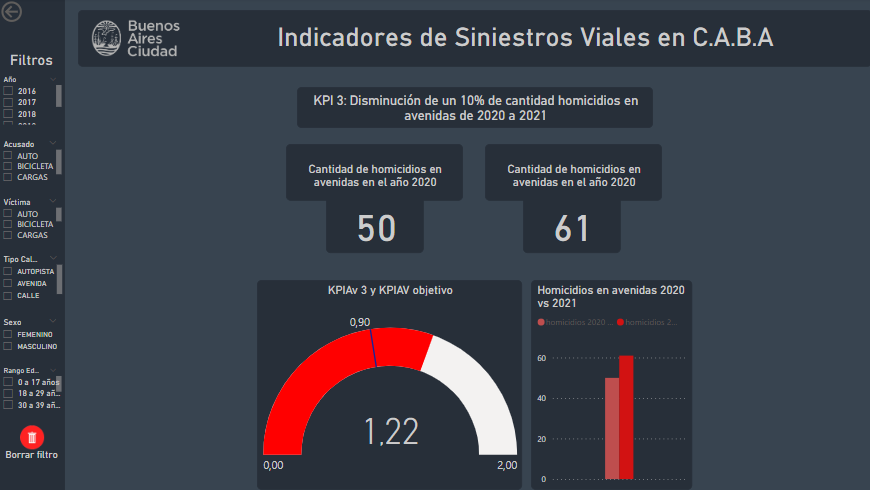

The page's visual inventory and layout, read from the dashboard file:
{"tool":"powerbi","page":{"name":"KPI 3","canvas":[1280,720],"ordinal":3},"visuals":[{"type":"shape","box":[0,0,98,720],"z":0},{"type":"textbox","box":[0,72.7,98,35.1],"z":1000},{"type":"actionButton","box":[0,0,100,40],"z":2000},{"type":"textbox","box":[437.6,130.2,521,60],"z":3000},{"type":"gauge","fields":{"Y":["homicidios.KPIAv 3"],"TargetValue":["homicidios.KPIAV objetivo"]},"box":[379,412.7,387.8,307.3],"z":4000},{"type":"clusteredColumnChart","title":"Homicidios en avenidas 2020 vs 2021","fields":{"Y":["homicidios.homicidios 2020 avenidas","homicidios.homicidios 2021 avenidas"]},"box":[780,412.7,235.6,307.3],"z":5000},{"type":"shape","box":[117,17.4,1162,83.4],"z":6000},{"type":"image","box":[117.5,17.4,169.8,83.4],"z":7000},{"type":"textbox","box":[335.5,29.1,873.7,60],"z":8000},{"type":"card","title":"Tasa de homicidios x 100.000 habs. Primer semestre 2021","fields":{"Values":["homicidios.homicidios 2020 avenidas"]},"box":[480,285.4,143.4,87.8],"z":9000},{"type":"textbox","box":[421.5,213.7,259,83.4],"z":10000},{"type":"textbox","box":[712.7,213.7,259,83.4],"z":11000},{"type":"card","title":"Tasa de homicidios x 100.000 habs. Primer semestre 2021","fields":{"Values":["homicidios.homicidios 2021 avenidas"]},"box":[768.3,285.4,143.4,87.8],"z":12000},{"type":"slicer","fields":{"Values":["victimas.FECHA.Variación.Jerarquía de fechas.Año"]},"box":[0,107.8,98,82],"z":13000},{"type":"slicer","fields":{"Values":["homicidios.TIPO_DE_CALLE"]},"box":[0,370.8,98.6,80.9],"z":14000},{"type":"image","box":[20.5,620,58.5,45.4],"z":15000},{"type":"slicer","fields":{"Values":["victimas.RANGO EDAD"]},"box":[0,533.7,98,73.2],"z":16000},{"type":"slicer","fields":{"Values":["homicidios.VICTIMA"]},"box":[0,201.5,98,73.2],"z":17000},{"type":"slicer","fields":{"Values":["victimas.VICTIMA"]},"box":[0,286.4,98,73.2],"z":18000},{"type":"slicer","fields":{"Values":["victimas.SEXO"]},"box":[0,462,98,80.5],"z":19000},{"type":"textbox","box":[0,654.1,98,32.2],"z":20000}]}

Visuals, with their boxes on the page's 1280x720 design canvas (x1, y1, x2, y2). These are canvas units, not pixel positions in the 870x490 screenshot, which may show the page scaled, cropped or inside an application window:
shape: <box>0,0,98,720</box>
textbox: <box>0,73,98,108</box>
actionButton: <box>0,0,100,40</box>
textbox: <box>438,130,959,190</box>
gauge - homicidios.KPIAv 3 x homicidios.KPIAV objetivo: <box>379,413,767,720</box>
"Homicidios en avenidas 2020 vs 2021" clusteredColumnChart: <box>780,413,1016,720</box>
shape: <box>117,17,1279,101</box>
image: <box>118,17,287,101</box>
textbox: <box>336,29,1209,89</box>
"Tasa de homicidios x 100.000 habs. Primer semestre 2021" card: <box>480,285,623,373</box>
textbox: <box>422,214,680,297</box>
textbox: <box>713,214,972,297</box>
"Tasa de homicidios x 100.000 habs. Primer semestre 2021" card: <box>768,285,912,373</box>
slicer - victimas.FECHA.Variación.Jerarquía de fechas.Año: <box>0,108,98,190</box>
slicer - homicidios.TIPO_DE_CALLE: <box>0,371,99,452</box>
image: <box>20,620,79,665</box>
slicer - victimas.RANGO EDAD: <box>0,534,98,607</box>
slicer - homicidios.VICTIMA: <box>0,202,98,275</box>
slicer - victimas.VICTIMA: <box>0,286,98,360</box>
slicer - victimas.SEXO: <box>0,462,98,542</box>
textbox: <box>0,654,98,686</box>
